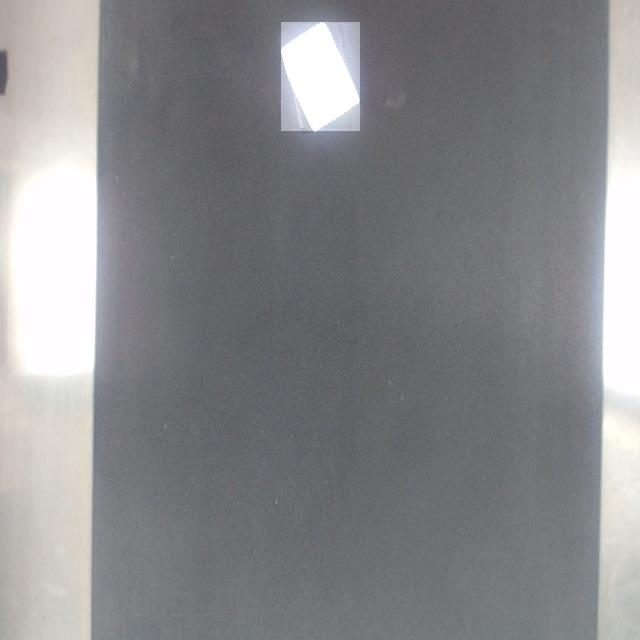Blanco: (282, 23, 360, 131)
